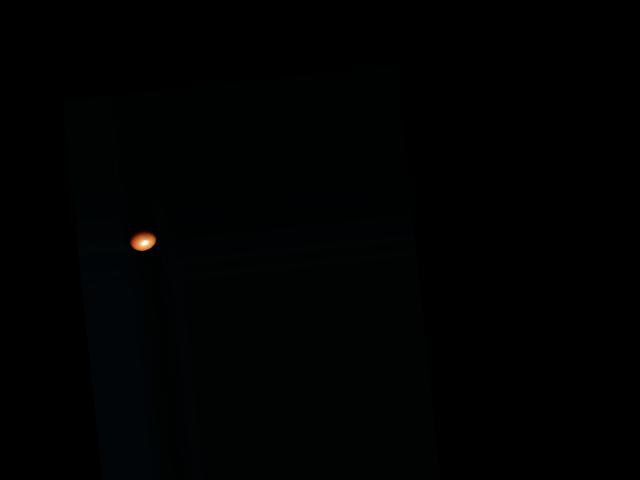egg: (127, 227, 156, 251)
